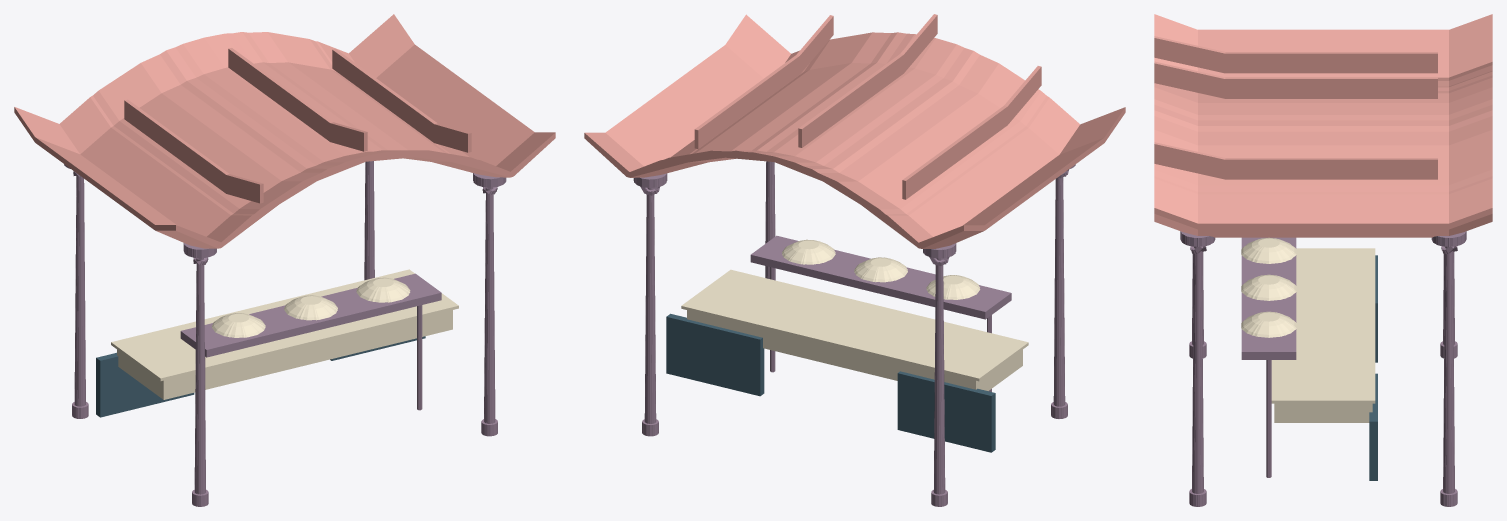
File: env_market_stall_a.glb
3 views of the same model, side by side, from view 1: azimuth 30°, elevation 25°; view 2: azimuth 150°, elevation 25°; view 3: azimuth 270°, elevation 25° (orthographic). The views are drawn at different scales.
Visible parts, largest first — view 1: lod0__stall_canopy, lod1__stall_canopy, lod0__stall_liptop, lod2__stall_canopy, lod0__stall_counter, lod0__stall_shelf, lod1__stall_counter, lod0__stall_rib_x1.15, lod0__stall_rib_x-1.15, lod0__stall_rib_x0.0, lod0__stall_front, lod0__stall_post.002 (+9 smaller); view 2: lod1__stall_canopy, lod0__stall_canopy, lod0__stall_liptop, lod0__stall_front.001, lod0__stall_front, lod0__stall_shelf, lod2__stall_canopy, lod0__stall_counter, lod0__stall_rib_x1.15, lod0__stall_rib_x0.0, lod0__stall_rib_x-1.15, lod1__stall_counter (+7 smaller); view 3: lod0__stall_canopy, lod1__stall_canopy, lod0__stall_liptop, lod0__stall_rib_x0.0, lod0__stall_rib_x1.15, lod0__stall_rib_x-1.15, lod0__stall_shelf, lod2__stall_canopy, lod0__stall_post.002, lod0__stall_post.003, lod0__stall_counter, lod1__stall_counter (+9 smaller).
Part boxes in pixels (x1,y1,x2,y2): lod0__stall_canopy: (14,32,555,248); lod1__stall_canopy: (14,14,555,246); lod0__stall_liptop: (111,269,458,381); lod2__stall_canopy: (36,45,532,246); lod0__stall_counter: (141,310,452,399); lod0__stall_shelf: (180,273,441,357); lod1__stall_counter: (117,310,452,399); lod0__stall_rib_x1.15: (332,49,471,152); lod0__stall_rib_x-1.15: (124,99,263,203); lod0__stall_rib_x0.0: (228,48,367,151); lod0__stall_front: (96,352,194,417); lod0__stall_post.002: (484,187,495,423); lod1__stall_canopy: (584,14,1124,247); lod0__stall_canopy: (584,32,1125,248); lod0__stall_liptop: (681,269,1028,381); lod0__stall_front.001: (666,313,764,396); lod0__stall_front: (897,371,995,452); lod0__stall_shelf: (750,235,1011,319); lod2__stall_canopy: (606,45,1104,247); lod0__stall_counter: (687,311,1022,389); lod0__stall_rib_x1.15: (694,15,833,148); lod0__stall_rib_x0.0: (798,14,937,147); lod0__stall_rib_x-1.15: (902,66,1041,199); lod1__stall_counter: (687,310,1022,390); lod0__stall_canopy: (1154,62,1492,237); lod1__stall_canopy: (1154,14,1492,229); lod0__stall_liptop: (1271,248,1375,403); lod0__stall_rib_x0.0: (1154,61,1437,98); lod0__stall_rib_x1.15: (1154,142,1437,179); lod0__stall_rib_x-1.15: (1154,36,1437,73); lod0__stall_shelf: (1241,237,1296,359); lod2__stall_canopy: (1198,29,1448,229); lod0__stall_post.002: (1192,246,1203,493); lod0__stall_post.003: (1443,246,1454,493); lod0__stall_counter: (1274,403,1372,422); lod1__stall_counter: (1274,403,1372,422).
Bounding box in the file's own units: 4.2 × 3.71 × 3.1.
